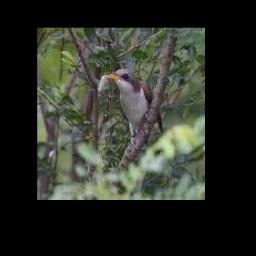Cuckoo: (106, 69, 162, 137)
